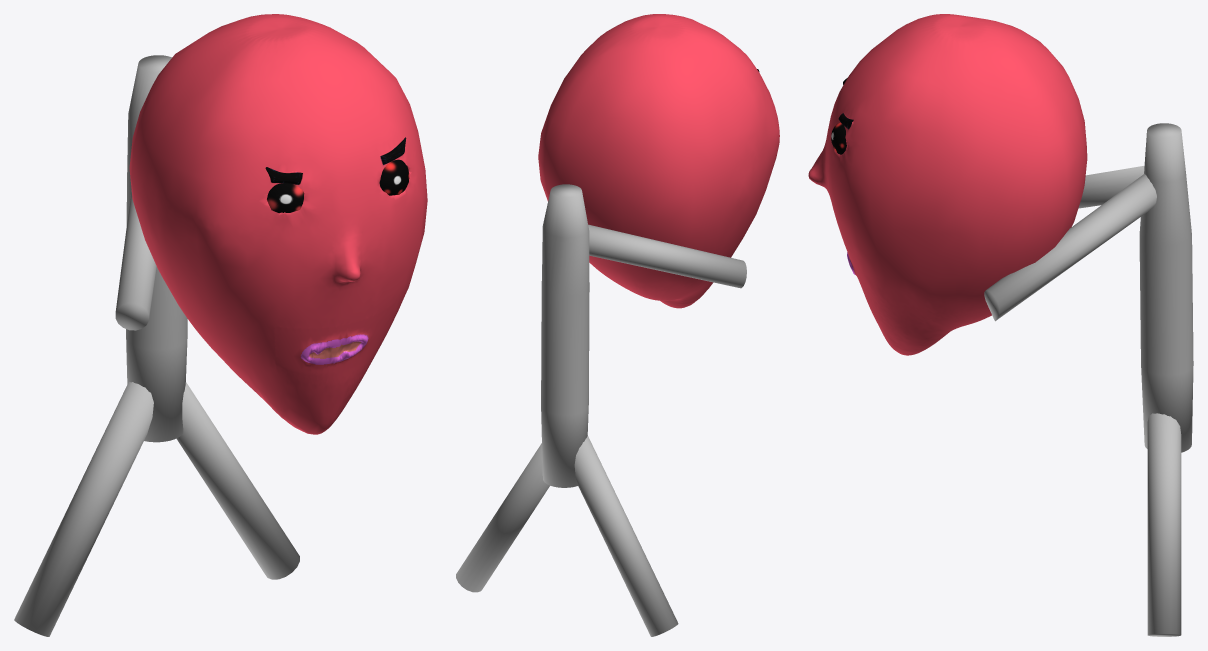
Rendered from BlueHeadOnHand.fbx.
3 renders of one model, left to right at view 1: azimuth 30°, elevation 25°; view 2: azimuth 150°, elevation 25°; view 3: azimuth 270°, elevation 25°, orthographic. The views are drawn at different scales.
Visible parts, largest first — view 1: head; view 2: head; view 3: head.
Boxes of the visible parts, x1,y1,x2,y2 form: head: (14, 14, 427, 636); head: (456, 14, 779, 636); head: (808, 14, 1193, 636).
Bounding box in the file's own units: 1.05 × 2.39 × 1.47.
